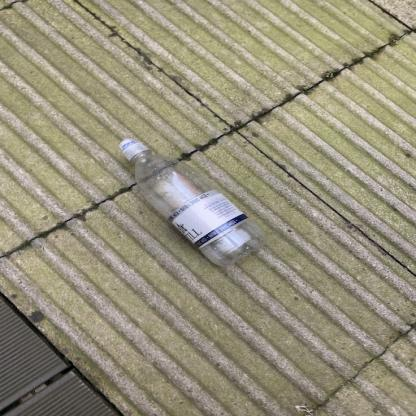trash: (116, 138, 270, 268)
